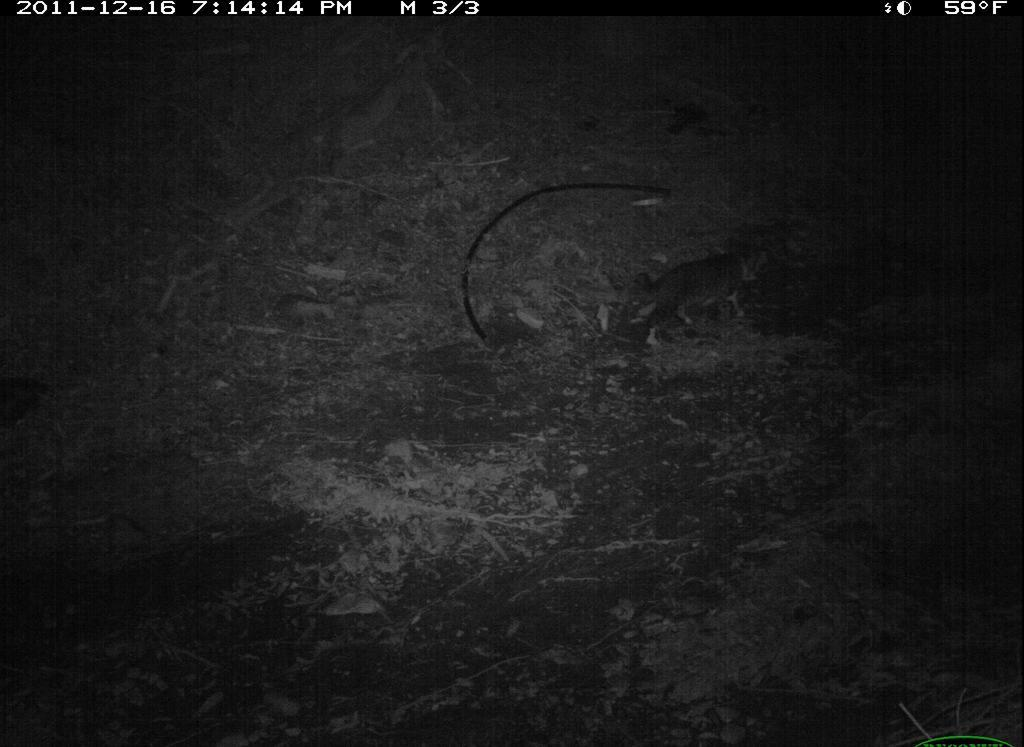cat: (603, 230, 776, 360)
